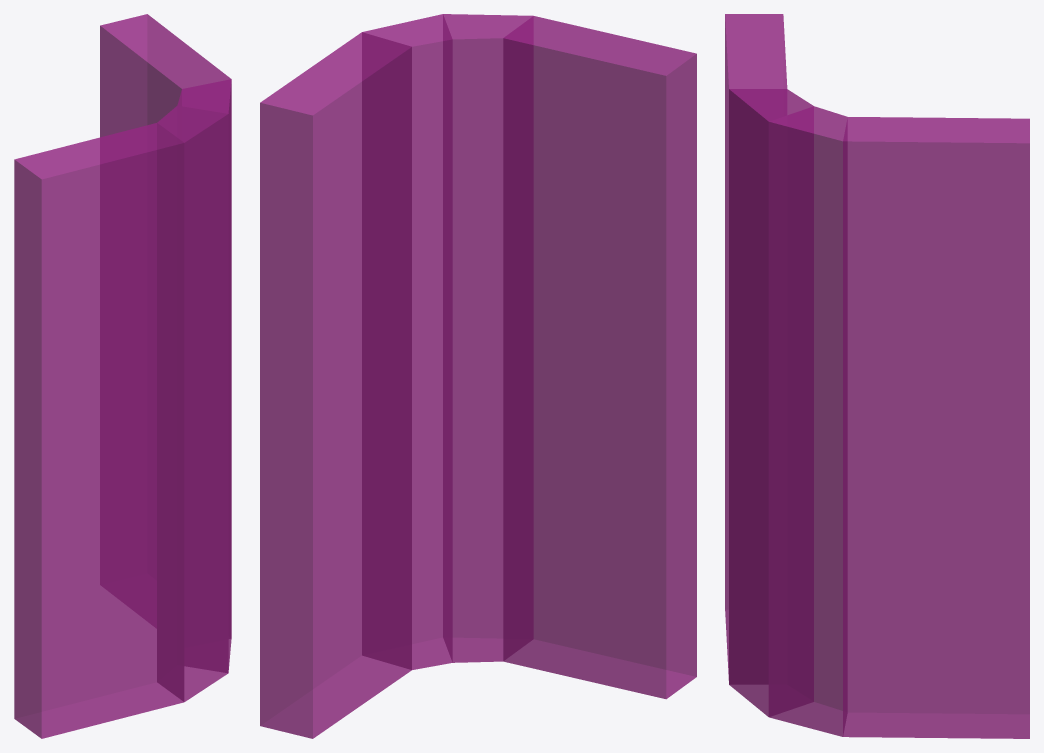
Rendered from SM_Bld_Deco_Wall_Curved_01_Collision.fbx.
The picture shows the model from 3 angles, left to right: view 1: azimuth 30°, elevation 25°; view 2: azimuth 150°, elevation 25°; view 3: azimuth 270°, elevation 25°; orthographic projection. The views are drawn at different scales.
Visible parts, largest first — view 1: SM_Bld_Deco_Wall_Curved_01_Collision; view 2: SM_Bld_Deco_Wall_Curved_01_Collision; view 3: SM_Bld_Deco_Wall_Curved_01_Collision.
Boxes of the visible parts, box(x1,y1,x2,y2) form: SM_Bld_Deco_Wall_Curved_01_Collision: box(14, 14, 231, 738); SM_Bld_Deco_Wall_Curved_01_Collision: box(260, 14, 696, 738); SM_Bld_Deco_Wall_Curved_01_Collision: box(725, 14, 1029, 738).
Size of the model in its own units: 140 by 301 by 140.
